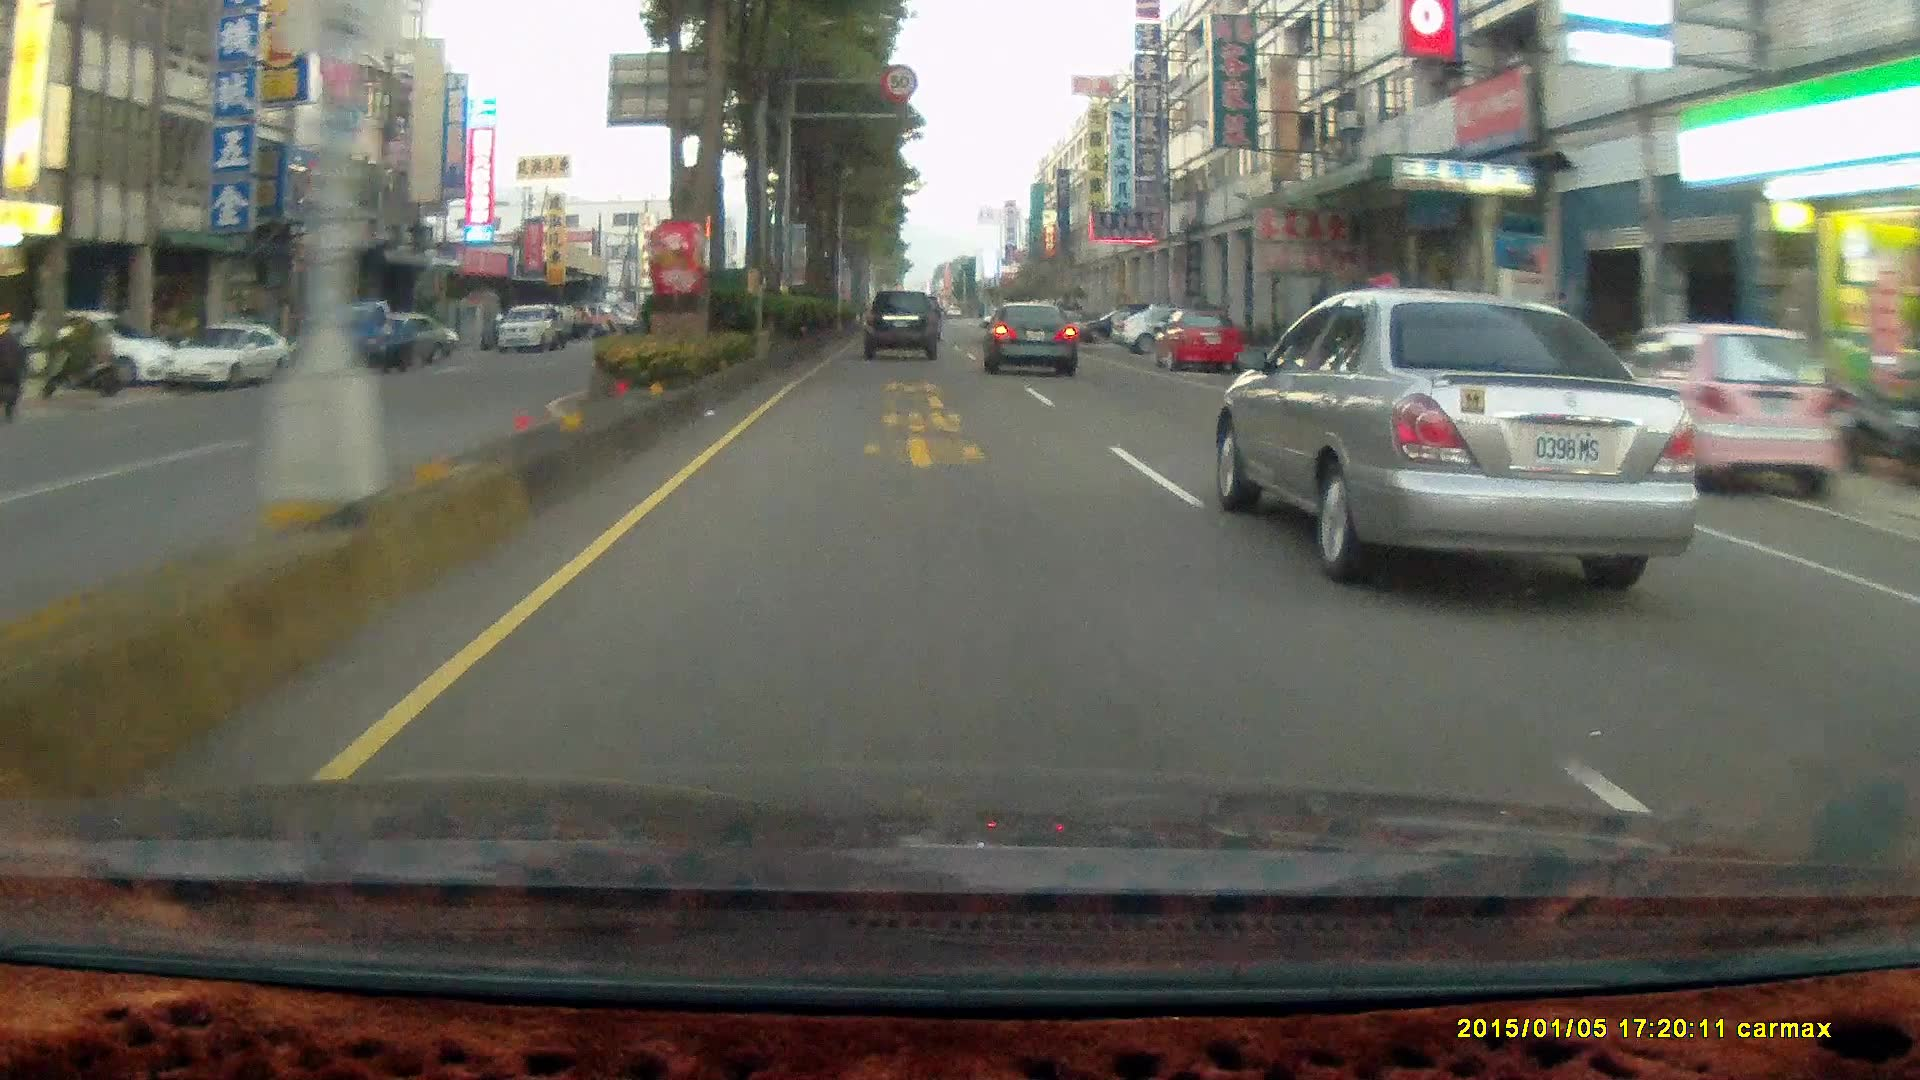pedestrian: (0, 313, 25, 431), (0, 323, 31, 417)
vehicle: (1227, 286, 1717, 574), (1594, 320, 1846, 508), (1598, 320, 1830, 498), (1358, 297, 1550, 400), (25, 306, 175, 384), (161, 317, 294, 391), (316, 297, 432, 375), (161, 321, 291, 387), (315, 296, 415, 376), (985, 300, 1082, 378), (980, 299, 1076, 376), (1149, 305, 1242, 371), (1156, 307, 1244, 377), (864, 289, 943, 364), (1109, 294, 1220, 345), (860, 285, 938, 355), (361, 312, 455, 364), (496, 303, 559, 353), (1075, 306, 1152, 342)
